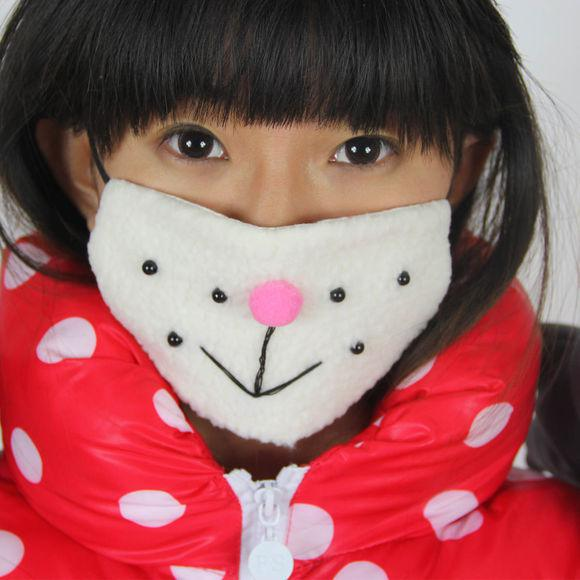OK: (95, 80, 451, 436)
